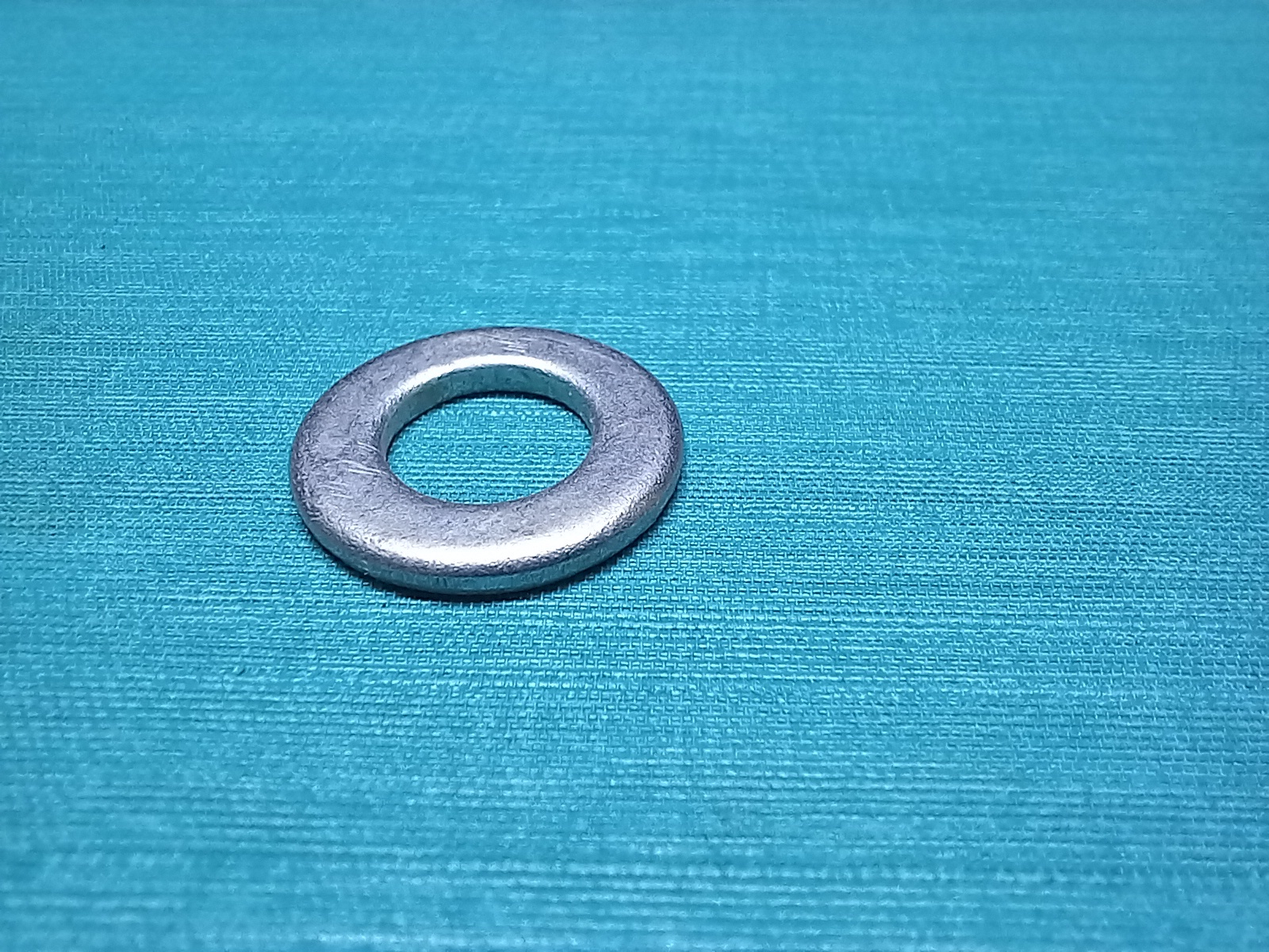washer: (275, 321, 739, 638)
